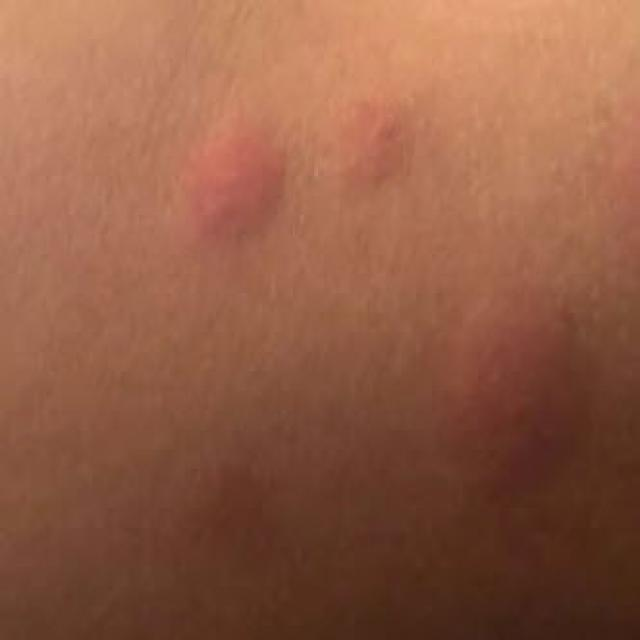sinek: (138, 69, 433, 273), (446, 287, 577, 549), (169, 383, 339, 567)
